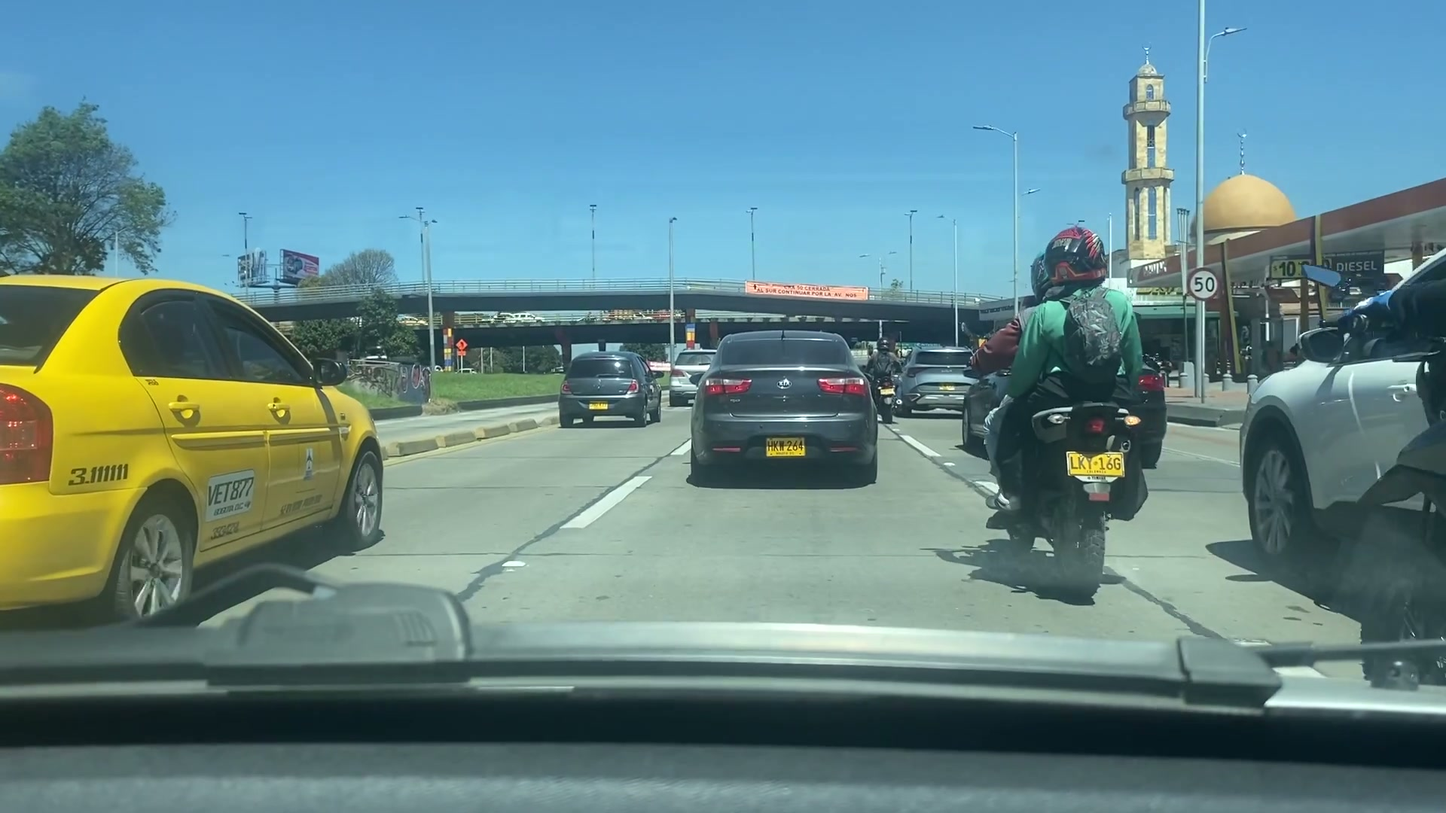car: (0, 274, 387, 618), (1238, 230, 1446, 612), (693, 329, 877, 482), (552, 353, 666, 424), (898, 347, 980, 414), (669, 348, 720, 405)
motorcycle: (977, 399, 1147, 611)
person: (978, 230, 1156, 530), (869, 338, 901, 405)
